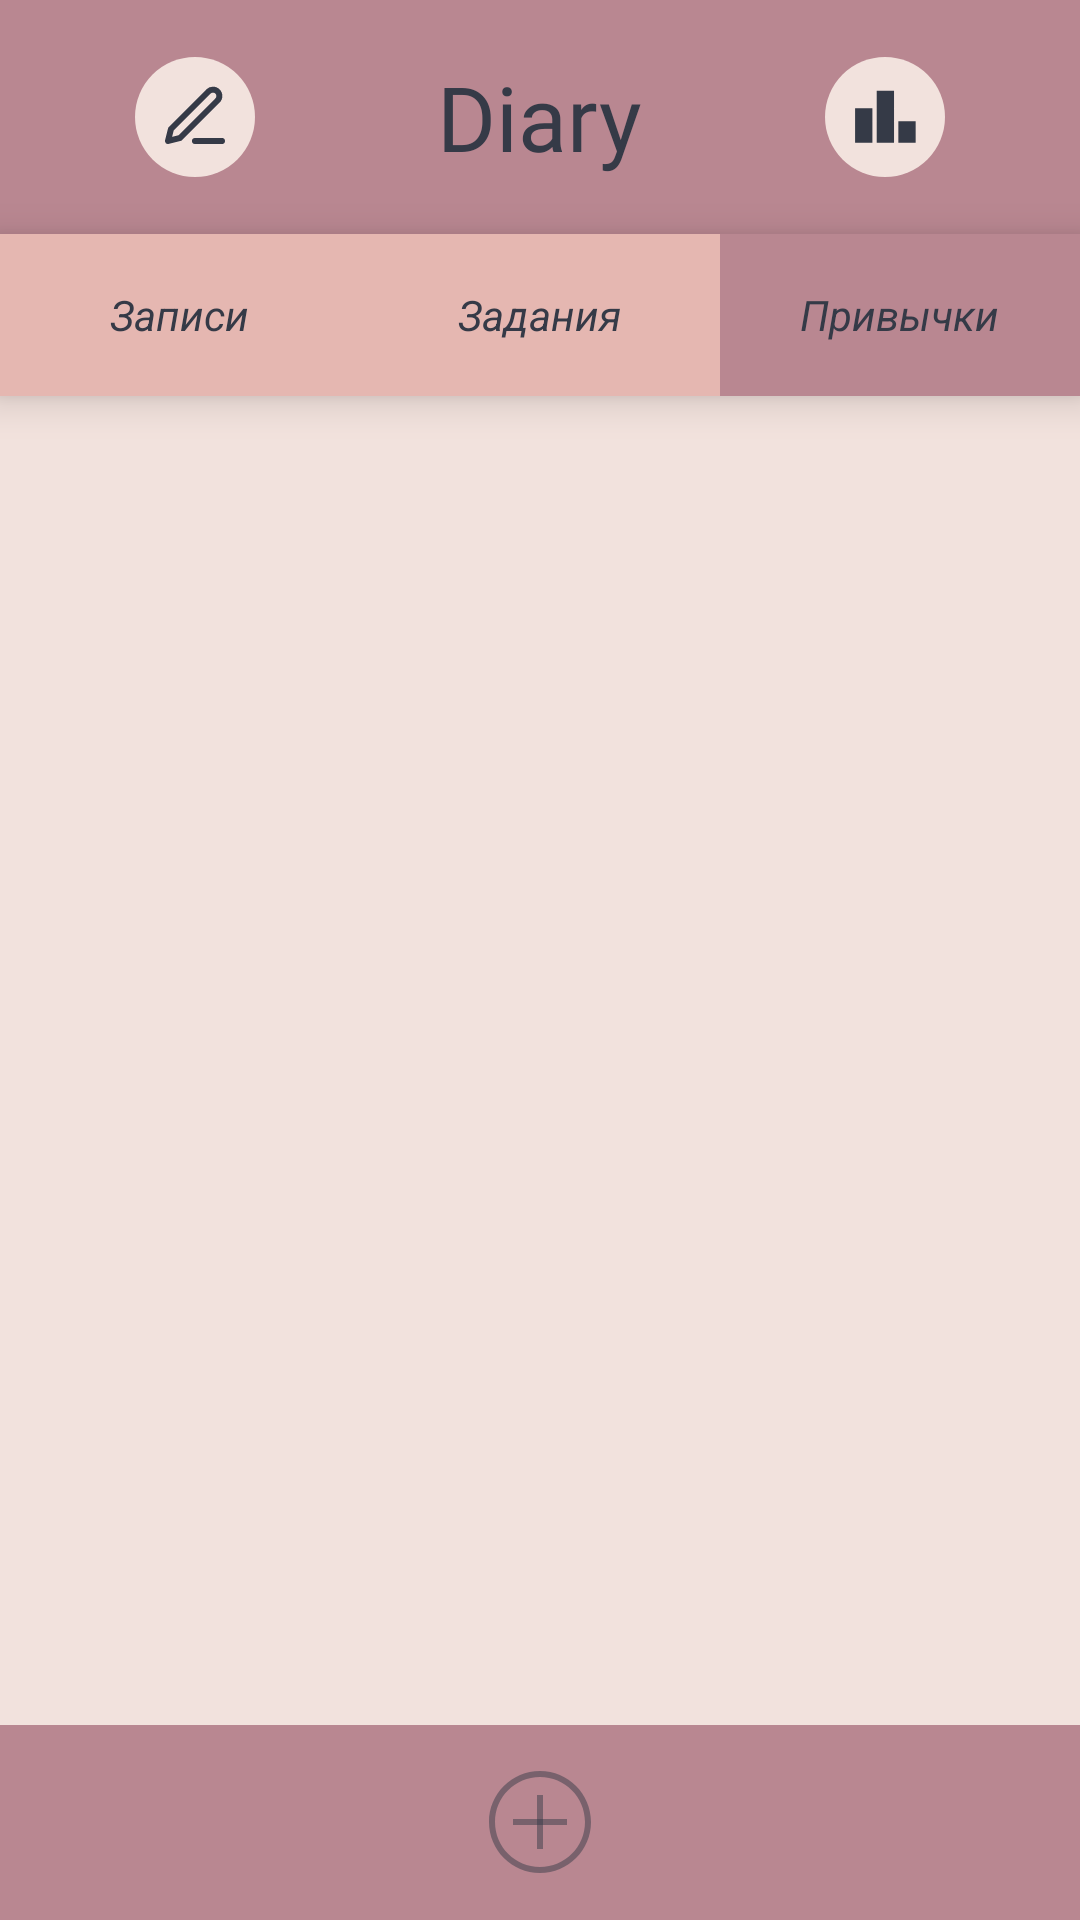

Icons on this 1080 × 1920 Android screen, each with its box as (x1, y1, x2, y2):
plus: (489, 1771, 591, 1873)
statistic: (825, 57, 945, 177)
text: (135, 57, 255, 177)
